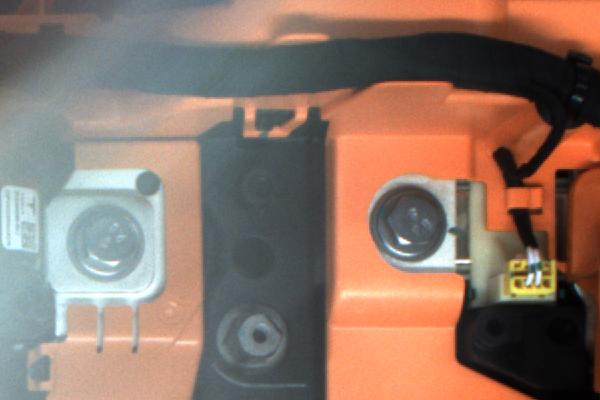nut_b: (358, 187, 457, 262), (58, 205, 152, 283)
